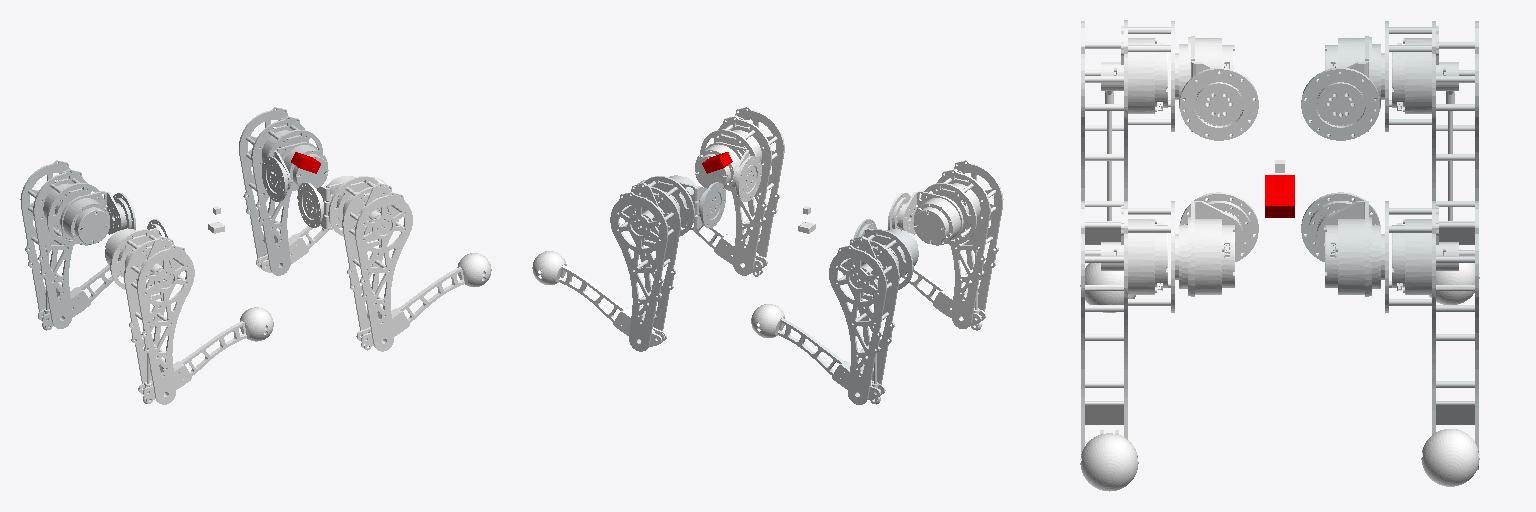
URDF robot description (newdog7):
<?xml version="1.0" encoding="utf-8"?>
<!-- Copyright (c) 2026 taojunfeng123
     SPDX-License-Identifier: Apache-2.0 -->

<!-- This URDF was automatically created by SolidWorks to URDF Exporter! Originally created by Stephen Brawner (brawner@gmail.com)
     Commit Version: 1.6.0-4-g7f85cfe  Build Version: 1.6.7995.38578
     For more information, please see http://wiki.ros.org/sw_urdf_exporter -->
<robot
  name="newdog7">
  <link
    name="base_link">
    <inertial>
      <origin
        xyz="3.33066907387547E-16 -1.52308721190764E-15 8.67361737988404E-19"
        rpy="0 0 0" />
      <mass
        value="0.0010000" />
      <inertia
        ixx="0.0000000"
        ixy="0.0000000"
        ixz="0.0000000"
        iyy="0.0000000"
        iyz="0.0000000"
        izz="0.0000000" />
    </inertial>
    <visual>
      <origin
        xyz="0 0 0"
        rpy="0 0 0" />
      <geometry>
        <mesh
          filename="package://newdog7/meshes/base_link.STL" />
      </geometry>
      <material
        name="">
        <color
          rgba="1 1 1 1" />
      </material>
    </visual>
    <collision>
      <origin
        xyz="0 0 0"
        rpy="0 0 0" />
      <geometry>
        <mesh
          filename="package://newdog7/meshes/base_link.STL" />
      </geometry>
    </collision>
  </link>
  <link
    name="trunk_link">
    <inertial>
      <origin
        xyz="-0.000914596355781658 -0.00588588083227612 -0.0101666909289931"
        rpy="0 0 0" />
      <mass
        value="4.6043039" />
      <inertia
        ixx="0.0304155"
        ixy="-0.0001536"
        ixz="-0.0000979"
        iyy="0.0576475"
        iyz="0.0001516"
        izz="0.0768428" />
    </inertial>
    <visual>
      <origin
        xyz="0 0 0"
        rpy="0 0 0" />
      <geometry>
        <mesh
          filename="package://newdog7/meshes/trunk_link.STL" />
      </geometry>
      <material
        name="">
        <color
          rgba="0 1 1 1" />
      </material>
    </visual>
    <collision>
      <origin
        xyz="0 0 0"
        rpy="0 0 0" />
      <geometry>
        <mesh
          filename="package://newdog7/meshes/trunk_link.STL" />
      </geometry>
    </collision>
  </link>
  <joint
    name="trunk_joint"
    type="fixed">
    <origin
      xyz="0 0 0"
      rpy="0 0 0" />
    <parent
      link="base_link" />
    <child
      link="trunk_link" />
    <axis
      xyz="0 0 0" />
  </joint>
  <link
    name="FL_hip_link">
    <inertial>
      <origin
        xyz="-0.027663 0.016036 -4.3486E-05"
        rpy="0 0 0" />
      <mass
        value="1.0790672" />
      <inertia
        ixx="0.0008140"
        ixy="-0.0001481"
        ixz="-0.0000001"
        iyy="0.0015634"
        iyz="-0.0000034"
        izz="0.0013876" />
    </inertial>
    <visual>
      <origin
        xyz="0 0 0"
        rpy="0 0 0" />
      <geometry>
        <mesh
          filename="package://newdog7/meshes/FL_hip_link.STL" />
      </geometry>
      <material
        name="">
        <color
          rgba="0.89804 0.91765 0.92941 1" />
      </material>
    </visual>
    <collision>
      <origin
        xyz="0 0 0"
        rpy="0 0 0" />
      <geometry>
        <mesh
          filename="package://newdog7/meshes/FL_hip_link.STL" />
      </geometry>
    </collision>
  </link>
  <joint
    name="FL_hip_joint"
    type="revolute">
    <origin
      xyz="0.219736600000002 0.0625499999999842 0"
      rpy="0 0 0" />
    <parent
      link="trunk_link" />
    <child
      link="FL_hip_link" />
    <axis
      xyz="-1 0 0" />
    <limit
      lower="-0.5522"
      upper="0.4007"
      effort="100"
      velocity="100" />
  </joint>
  <link
    name="FL_thigh_link">
    <inertial>
      <origin
        xyz="-0.003735 -0.017979 -0.04498"
        rpy="0 0 0" />
      <mass
        value="0.9731943" />
      <inertia
        ixx="0.0043557"
        ixy="0.0000417"
        ixz="-0.0001582"
        iyy="0.0019267"
        iyz="0.0005892"
        izz="0.0012665" />
    </inertial>
    <visual>
      <origin
        xyz="0 0 0"
        rpy="0 0 0" />
      <geometry>
        <mesh
          filename="package://newdog7/meshes/FL_thigh_link.STL" />
      </geometry>
      <material
        name="">
        <color
          rgba="0.89804 0.91765 0.92941 1" />
      </material>
    </visual>
    <collision>
      <origin
        xyz="0 0 0"
        rpy="0 0 0" />
      <geometry>
        <mesh
          filename="package://newdog7/meshes/FL_thigh_link.STL" />
      </geometry>
    </collision>
  </link>
  <joint
    name="FL_thigh_joint"
    type="revolute">
    <origin
      xyz="0 0.113000000000016 4.99999999798882E-05"
      rpy="0 0 0" />
    <parent
      link="FL_hip_link" />
    <child
      link="FL_thigh_link" />
    <axis
      xyz="0 -1 0" />
    <limit
      lower="-1.6601"
      upper="1.0000"
      effort="100"
      velocity="100" />
  </joint>
  <link
    name="FL_calf_link">
    <inertial>
      <origin
        xyz="0.025993 -5.5511E-17 0.056067"
        rpy="0 0 0" />
      <mass
        value="0.1721409" />
      <inertia
        ixx="0.0006392"
        ixy="0.0000000"
        ixz="-0.0002869"
        iyy="0.0007876"
        iyz="0.0000000"
        izz="0.0001583" />
    </inertial>
    <visual>
      <origin
        xyz="0 0 0"
        rpy="0 0 0" />
      <geometry>
        <mesh
          filename="package://newdog7/meshes/FL_calf_link.STL" />
      </geometry>
      <material
        name="">
        <color
          rgba="1 1 1 1" />
      </material>
    </visual>
    <collision>
      <origin
        xyz="0 0 0"
        rpy="0 0 0" />
      <geometry>
        <mesh
          filename="package://newdog7/meshes/FL_calf_link.STL" />
      </geometry>
    </collision>
  </link>
  <joint
    name="FL_calf_joint"
    type="revolute">
    <origin
      xyz="0 0 -0.220000000000001"
      rpy="0 0 0" />
    <parent
      link="FL_thigh_link" />
    <child
      link="FL_calf_link" />
    <axis
      xyz="0 -1 0" />
    <limit
      lower="-1.4042"
      upper="-0.0052"
      effort="100"
      velocity="100" />
  </joint>
  <link
    name="FL_foot_link">
    <inertial>
      <origin
        xyz="-0.00089398 -4.8815E-05 -0.0011987"
        rpy="0 0 0" />
      <mass
        value="0.0347400" />
      <inertia
        ixx="0.0000129"
        ixy="0.0000000"
        ixz="0.0000004"
        iyy="0.0000127"
        iyz="0.0000000"
        izz="0.0000131" />
    </inertial>
    <visual>
      <origin
        xyz="0 0 0"
        rpy="0 0 0" />
      <geometry>
        <mesh
          filename="package://newdog7/meshes/FL_foot_link.STL" />
      </geometry>
      <material
        name="">
        <color
          rgba="1 1 1 1" />
      </material>
    </visual>
    <collision>
      <origin
        xyz="0 0 0"
        rpy="0 0 0" />
      <geometry>
        <mesh
          filename="package://newdog7/meshes/FL_foot_link.STL" />
      </geometry>
    </collision>
  </link>
  <joint
    name="FL_foot_joint"
    type="fixed">
    <origin
      xyz="0.097188108287879 0 0.192544991245897"
      rpy="0 0 0" />
    <parent
      link="FL_calf_link" />
    <child
      link="FL_foot_link" />
    <axis
      xyz="0 0 0" />
  </joint>
  <link
    name="FR_hip_link">
    <inertial>
      <origin
        xyz="-0.027663 -0.016036 -4.3438E-05"
        rpy="0 0 0" />
      <mass
        value="1.0790672" />
      <inertia
        ixx="0.0008140"
        ixy="0.0001481"
        ixz="-0.0000001"
        iyy="0.0015634"
        iyz="0.0000034"
        izz="0.0013876" />
    </inertial>
    <visual>
      <origin
        xyz="0 0 0"
        rpy="0 0 0" />
      <geometry>
        <mesh
          filename="package://newdog7/meshes/FR_hip_link.STL" />
      </geometry>
      <material
        name="">
        <color
          rgba="1 1 1 1" />
      </material>
    </visual>
    <collision>
      <origin
        xyz="0 0 0"
        rpy="0 0 0" />
      <geometry>
        <mesh
          filename="package://newdog7/meshes/FR_hip_link.STL" />
      </geometry>
    </collision>
  </link>
  <joint
    name="FR_hip_joint"
    type="revolute">
    <origin
      xyz="0.219736600000002 -0.0625499999999764 0"
      rpy="0 0 0" />
    <parent
      link="trunk_link" />
    <child
      link="FR_hip_link" />
    <axis
      xyz="-1 0 0" />
    <limit
      lower="-0.4049"
      upper="0.7582"
      effort="100"
      velocity="100" />
  </joint>
  <link
    name="FR_thigh_link">
    <inertial>
      <origin
        xyz="-0.0037532 0.017969 -0.045081"
        rpy="0 0 0" />
      <mass
        value="0.9703371 " />
      <inertia
        ixx="0.0043506"
        ixy="-0.0000419"
        ixz="-0.0001589"
        iyy="0.0019028"
        iyz="-0.0005910"
        izz="0.0012644" />
    </inertial>
    <visual>
      <origin
        xyz="0 0 0"
        rpy="0 0 0" />
      <geometry>
        <mesh
          filename="package://newdog7/meshes/FR_thigh_link.STL" />
      </geometry>
      <material
        name="">
        <color
          rgba="1 1 1 1" />
      </material>
    </visual>
    <collision>
      <origin
        xyz="0 0 0"
        rpy="0 0 0" />
      <geometry>
        <mesh
          filename="package://newdog7/meshes/FR_thigh_link.STL" />
      </geometry>
    </collision>
  </link>
  <joint
    name="FR_thigh_joint"
    type="revolute">
    <origin
      xyz="0 -0.112999999999979 4.99999999777215E-05"
      rpy="0 0 0" />
    <parent
      link="FR_hip_link" />
    <child
      link="FR_thigh_link" />
    <axis
      xyz="0 1 0" />
    <limit
      lower="-0.8261"
      upper="1.7418"
      effort="100"
      velocity="100" />
  </joint>
  <link
    name="FR_calf_link">
    <inertial>
      <origin
        xyz="0.026127 1.6653E-16 0.056277"
        rpy="0 0 0" />
      <mass
        value="0.1716383" />
      <inertia
        ixx="0.0006366"
        ixy="0.0000000"
        ixz="-0.0002853"
        iyy="0.0007840"
        iyz="0.0000000"
        izz="0.0001572" />
    </inertial>
    <visual>
      <origin
        xyz="0 0 0"
        rpy="0 0 0" />
      <geometry>
        <mesh
          filename="package://newdog7/meshes/FR_calf_link.STL" />
      </geometry>
      <material
        name="">
        <color
          rgba="1 1 1 1" />
      </material>
    </visual>
    <collision>
      <origin
        xyz="0 0 0"
        rpy="0 0 0" />
      <geometry>
        <mesh
          filename="package://newdog7/meshes/FR_calf_link.STL" />
      </geometry>
    </collision>
  </link>
  <joint
    name="FR_calf_joint"
    type="revolute">
    <origin
      xyz="0 0 -0.219999999999998"
      rpy="0 0 0" />
    <parent
      link="FR_thigh_link" />
    <child
      link="FR_calf_link" />
    <axis
      xyz="0 1 0" />
    <limit
      lower="0.0175"
      upper="1.4368"
      effort="100"
      velocity="100" />
  </joint>
  <link
    name="FR_foot_link">
    <inertial>
      <origin
        xyz="-0.00089398 4.8818E-05 -0.0011987"
        rpy="0 0 0" />
      <mass
        value="0.0347400" />
      <inertia
        ixx="0.0000129"
        ixy="0.0000000"
        ixz="0.0000004"
        iyy="0.0000127"
        iyz="0.0000000"
        izz="0.0000131" />
    </inertial>
    <visual>
      <origin
        xyz="0 0 0"
        rpy="0 0 0" />
      <geometry>
        <mesh
          filename="package://newdog7/meshes/FR_foot_link.STL" />
      </geometry>
      <material
        name="">
        <color
          rgba="1 1 1 1" />
      </material>
    </visual>
    <collision>
      <origin
        xyz="0 0 0"
        rpy="0 0 0" />
      <geometry>
        <mesh
          filename="package://newdog7/meshes/FR_foot_link.STL" />
      </geometry>
    </collision>
  </link>
  <joint
    name="FR_foot_joint"
    type="fixed">
    <origin
      xyz="0.097188113678866 0 0.192544983915192"
      rpy="0 0 0" />
    <parent
      link="FR_calf_link" />
    <child
      link="FR_foot_link" />
    <axis
      xyz="0 0 0" />
  </joint>
  <link
    name="RL_hip_link">
    <inertial>
      <origin
        xyz="0.0275370203353642 0.016035850006297 -4.3485968027542E-05"
        rpy="0 0 0" />
      <mass
        value="1.0790672" />
      <inertia
        ixx="0.0008140"
        ixy="0.0001473"
        ixz="-0.0000159"
        iyy="0.0015847"
        iyz="-0.0000034"
        izz="0.0014089" />
    </inertial>
    <visual>
      <origin
        xyz="0 0 0"
        rpy="0 0 0" />
      <geometry>
        <mesh
          filename="package://newdog7/meshes/RL_hip_link.STL" />
      </geometry>
      <material
        name="">
        <color
          rgba="0.898039215686275 0.917647058823529 0.929411764705882 1" />
      </material>
    </visual>
    <collision>
      <origin
        xyz="0 0 0"
        rpy="0 0 0" />
      <geometry>
        <mesh
          filename="package://newdog7/meshes/RL_hip_link.STL" />
      </geometry>
    </collision>
  </link>
  <joint
    name="RL_hip_joint"
    type="revolute">
    <origin
      xyz="-0.219736600000007 0.0625499999999842 0"
      rpy="0 0 0" />
    <parent
      link="trunk_link" />
    <child
      link="RL_hip_link" />
    <axis
      xyz="1 0 0" />
    <limit
      lower="-0.4061"
      upper="0.8384"
      effort="100"
      velocity="100" />
  </joint>
  <link
    name="RL_thigh_link">
    <inertial>
      <origin
        xyz="-0.00375129650168743 -0.0179606285310873 -0.0451765685552273"
        rpy="0 0 0" />
      <mass
        value="0.9736970" />
      <inertia
        ixx="0.0043788"
        ixy="0.0000419"
        ixz="-0.0001600"
        iyy="0.0040626"
        iyz="0.0005917"
        izz="0.0012669" />
    </inertial>
    <visual>
      <origin
        xyz="0 0 0"
        rpy="0 0 0" />
      <geometry>
        <mesh
          filename="package://newdog7/meshes/RL_thigh_link.STL" />
      </geometry>
      <material
        name="">
        <color
          rgba="0.898039215686275 0.917647058823529 0.929411764705882 1" />
      </material>
    </visual>
    <collision>
      <origin
        xyz="0 0 0"
        rpy="0 0 0" />
      <geometry>
        <mesh
          filename="package://newdog7/meshes/RL_thigh_link.STL" />
      </geometry>
    </collision>
  </link>
  <joint
    name="RL_thigh_joint"
    type="revolute">
    <origin
      xyz="0 0.113000000000016 5.00000000046436E-05"
      rpy="0 0 0" />
    <parent
      link="RL_hip_link" />
    <child
      link="RL_thigh_link" />
    <axis
      xyz="0 -1 0" />
    <limit
      lower="-1.6938"
      upper="0.0715"
      effort="100"
      velocity="100" />
  </joint>
  <link
    name="RL_calf_link">
    <inertial>
      <origin
        xyz="0.026127 -5.5511E-17 0.056277"
        rpy="0 0 0" />
      <mass
        value="0.1716383" />
      <inertia
        ixx="0.0006366"
        ixy="0.0000000"
        ixz="-0.0002853"
        iyy="0.0007840"
        iyz="0.0000000"
        izz="0.0001572" />
    </inertial>
    <visual>
      <origin
        xyz="0 0 0"
        rpy="0 0 0" />
      <geometry>
        <mesh
          filename="package://newdog7/meshes/RL_calf_link.STL" />
      </geometry>
      <material
        name="">
        <color
          rgba="0.89804 0.91765 0.92941 1" />
      </material>
    </visual>
    <collision>
      <origin
        xyz="0 0 0"
        rpy="0 0 0" />
      <geometry>
        <mesh
          filename="package://newdog7/meshes/RL_calf_link.STL" />
      </geometry>
    </collision>
  </link>
  <joint
    name="RL_calf_joint"
    type="revolute">
    <origin
      xyz="0 0 -0.220000000000003"
      rpy="0 0 0" />
    <parent
      link="RL_thigh_link" />
    <child
      link="RL_calf_link" />
    <axis
      xyz="0 -1 0" />
    <limit
      lower="-1.3881"
      upper="-0.0136"
      effort="100"
      velocity="100" />
  </joint>
  <link
    name="RL_foot_link">
    <inertial>
      <origin
        xyz="-0.00089398 -4.8815E-05 -0.0011987"
        rpy="0 0 0" />
      <mass
        value="0.0347400" />
      <inertia
        ixx="0.0000129"
        ixy="0.0000000"
        ixz="0.0000004"
        iyy="0.0000127"
        iyz="0.0000000"
        izz="0.0000131" />
    </inertial>
    <visual>
      <origin
        xyz="0 0 0"
        rpy="0 0 0" />
      <geometry>
        <mesh
          filename="package://newdog7/meshes/RL_foot_link.STL" />
      </geometry>
      <material
        name="">
        <color
          rgba="1 1 1 1" />
      </material>
    </visual>
    <collision>
      <origin
        xyz="0 0 0"
        rpy="0 0 0" />
      <geometry>
        <mesh
          filename="package://newdog7/meshes/RL_foot_link.STL" />
      </geometry>
    </collision>
  </link>
  <joint
    name="RL_foot_joint"
    type="fixed">
    <origin
      xyz="0.0971881082879007 0 0.192544991245896"
      rpy="0 0 0" />
    <parent
      link="RL_calf_link" />
    <child
      link="RL_foot_link" />
    <axis
      xyz="0 0 0" />
  </joint>
  <link
    name="RR_hip_link">
    <inertial>
      <origin
        xyz="0.02753707651014 -0.0160358508110011 -4.34381982042801E-05"
        rpy="0 0 0" />
      <mass
        value="1.0790672" />
      <inertia
        ixx="0.0008140"
        ixy="-0.0001473"
        ixz="-0.0000159"
        iyy="0.0015847"
        iyz="0.0000034"
        izz="0.0014089" />
    </inertial>
    <visual>
      <origin
        xyz="0 0 0"
        rpy="0 0 0" />
      <geometry>
        <mesh
          filename="package://newdog7/meshes/RR_hip_link.STL" />
      </geometry>
      <material
        name="">
        <color
          rgba="1 1 1 1" />
      </material>
    </visual>
    <collision>
      <origin
        xyz="0 0 0"
        rpy="0 0 0" />
      <geometry>
        <mesh
          filename="package://newdog7/meshes/RR_hip_link.STL" />
      </geometry>
    </collision>
  </link>
  <joint
    name="RR_hip_joint"
    type="revolute">
    <origin
      xyz="-0.219736600000007 -0.0625499999999764 0"
      rpy="0 0 0" />
    <parent
      link="trunk_link" />
    <child
      link="RR_hip_link" />
    <axis
      xyz="1 0 0" />
    <limit
      lower="-0.6692"
      upper="0.4436"
      effort="100"
      velocity="100" />
  </joint>
  <link
    name="RR_thigh_link">
    <inertial>
      <origin
        xyz="-0.0037532 0.017969 -0.045081"
        rpy="0 0 0" />
      <mass
        value="0.9703371" />
      <inertia
        ixx="0.0043506"
        ixy="-0.0000419"
        ixz="-0.0001589"
        iyy="0.0040321"
        iyz="-0.0005910"
        izz="0.0012644" />
    </inertial>
    <visual>
      <origin
        xyz="0 0 0"
        rpy="0 0 0" />
      <geometry>
        <mesh
          filename="package://newdog7/meshes/RR_thigh_link.STL" />
      </geometry>
      <material
        name="">
        <color
          rgba="1 1 1 1" />
      </material>
    </visual>
    <collision>
      <origin
        xyz="0 0 0"
        rpy="0 0 0" />
      <geometry>
        <mesh
          filename="package://newdog7/meshes/RR_thigh_link.STL" />
      </geometry>
    </collision>
  </link>
  <joint
    name="RR_thigh_joint"
    type="revolute">
    <origin
      xyz="0 -0.112999999999978 5.00000000001229E-05"
      rpy="0 0 0" />
    <parent
      link="RR_hip_link" />
    <child
      link="RR_thigh_link" />
    <axis
      xyz="0 1 0" />
    <limit
      lower="-0.0681"
      upper="1.7851"
      effort="100"
      velocity="100" />
  </joint>
  <link
    name="RR_calf_link">
    <inertial>
      <origin
        xyz="0.026127 -6.7002E-14 0.056277"
        rpy="0 0 0" />
      <mass
        value="0.1716383" />
      <inertia
        ixx="0.0006366"
        ixy=" 0.0000000"
        ixz="-0.0002853"
        iyy="0.0007840"
        iyz="0.0000000"
        izz="0.0001572" />
    </inertial>
    <visual>
      <origin
        xyz="0 0 0"
        rpy="0 0 0" />
      <geometry>
        <mesh
          filename="package://newdog7/meshes/RR_calf_link.STL" />
      </geometry>
      <material
        name="">
        <color
          rgba="1 1 1 1" />
      </material>
    </visual>
    <collision>
      <origin
        xyz="0 0 0"
        rpy="0 0 0" />
      <geometry>
        <mesh
          filename="package://newdog7/meshes/RR_calf_link.STL" />
      </geometry>
    </collision>
  </link>
  <joint
    name="RR_calf_joint"
    type="revolute">
    <origin
      xyz="0 0 -0.219999999999998"
      rpy="0 0 0" />
    <parent
      link="RR_thigh_link" />
    <child
      link="RR_calf_link" />
    <axis
      xyz="0 1 0" />
    <limit
      lower="0.0117"
      upper="1.4629"
      effort="100"
      velocity="100" />
  </joint>
  <link
    name="RR_foot_link">
    <inertial>
      <origin
        xyz="-0.00089398 4.8818E-05 -0.0011987"
        rpy="0 0 0" />
      <mass
        value="0.0347400" />
      <inertia
        ixx="0.0000129"
        ixy="0.0000000"
        ixz="0.0000004"
        iyy="0.0000127"
        iyz="0.0000000"
        izz="0.0000131" />
    </inertial>
    <visual>
      <origin
        xyz="0 0 0"
        rpy="0 0 0" />
      <geometry>
        <mesh
          filename="package://newdog7/meshes/RR_foot_link.STL" />
      </geometry>
      <material
        name="">
        <color
          rgba="1 1 1 1" />
      </material>
    </visual>
    <collision>
      <origin
        xyz="0 0 0"
        rpy="0 0 0" />
      <geometry>
        <mesh
          filename="package://newdog7/meshes/RR_foot_link.STL" />
      </geometry>
    </collision>
  </link>
  <joint
    name="RR_foot_joint"
    type="fixed">
    <origin
      xyz="0.0971881136788905 0 0.192544983915191"
      rpy="0 0 0" />
    <parent
      link="RR_calf_link" />
    <child
      link="RR_foot_link" />
    <axis
      xyz="0 0 0" />
  </joint>
  <link
    name="imu_link">
    <inertial>
      <origin
        xyz="-0.00012677 1.9776E-16 -0.033"
        rpy="0 0 0" />
      <mass
        value="0.0080000" />
      <inertia
        ixx="0.0000004"
        ixy="0.0000000"
        ixz="0.0000000"
        iyy="0.0000004"
        iyz="0.0000000"
        izz="0.0000006" />
    </inertial>
    <visual>
      <origin
        xyz="0 0 0"
        rpy="0 0 0" />
      <geometry>
        <mesh
          filename="package://newdog7/meshes/imu_link.STL" />
      </geometry>
      <material
        name="">
        <color
          rgba="1 1 1 1" />
      </material>
    </visual>
    <collision>
      <origin
        xyz="0 0 0"
        rpy="0 0 0" />
      <geometry>
        <mesh
          filename="package://newdog7/meshes/imu_link.STL" />
      </geometry>
    </collision>
  </link>
  <joint
    name="imu_joint"
    type="fixed">
    <origin
      xyz="0 0 0"
      rpy="0 0 0" />
    <parent
      link="trunk_link" />
    <child
      link="imu_link" />
    <axis
      xyz="0 0 0" />
  </joint>
  <!-- 前倾雷达：安装在身体前方上部，向前下方约30°倾斜，用于探测梅花桩等前方地形 -->
  <link
    name="radar_link">
    <inertial>
      <origin xyz="0 0 0" rpy="0 0 0" />
      <mass value="0.05" />
      <inertia ixx="0.0001" ixy="0" ixz="0" iyy="0.0001" iyz="0" izz="0.0001" />
    </inertial>
    <visual>
      <origin xyz="0 0 0" rpy="0 0 0" />
      <geometry>
        <box size="0.04 0.03 0.02" />
      </geometry>
      <material name="radar_material">
        <color rgba="1 0 0 1" />
      </material>
    </visual>
    <collision>
      <origin xyz="0 0 0" rpy="0 0 0" />
      <geometry>
        <box size="0.04 0.03 0.02" />
      </geometry>
    </collision>
  </link>
  <joint
    name="radar_joint"
    type="fixed">
    <origin
      xyz="0.18 0 0.05"
      rpy="0 0.5 0" />
    <parent link="trunk_link" />
    <child link="radar_link" />
    <axis xyz="0 0 0" />
  </joint>
</robot>

--- Render facts (derived) ---
Views: 3 orthographic renders of the robot side by side, from view 1: azimuth 30°, elevation 25°; view 2: azimuth 150°, elevation 25°; view 3: azimuth 270°, elevation 25°.
Model newdog7 with 20 links and 19 joints (12 revolute, 7 fixed), rooted at base_link, posed all joints at 0 but 4 set to mid-range because 0 is outside their limits (FL_calf_joint = -0.7047, FR_calf_joint = 0.7271, RL_calf_joint = -0.7008, RR_calf_joint = 0.7373).
Links seen in each view (by area): view 1: RR_thigh_link, FR_thigh_link, RL_thigh_link, FL_thigh_link, RL_hip_link, FL_hip_link, FR_hip_link, FR_calf_link, RR_calf_link, RL_calf_link, RR_foot_link, FR_foot_link (+2 smaller); view 2: RL_thigh_link, FL_thigh_link, RR_thigh_link, FR_thigh_link, RR_hip_link, FR_hip_link, FL_hip_link, FL_calf_link, RL_calf_link, RR_calf_link, FL_foot_link, RL_foot_link (+2 smaller); view 3: FR_thigh_link, FL_thigh_link, RR_thigh_link, RL_thigh_link, RL_hip_link, RR_hip_link, FL_hip_link, FR_hip_link, FR_foot_link, FL_foot_link, radar_link, RR_foot_link (+1 smaller).
Boxes of the visible links, box(x1,y1,x2,y2) form: RR_thigh_link: box(110, 229, 194, 404); FR_thigh_link: box(328, 176, 412, 351); RL_thigh_link: box(20, 160, 103, 330); FL_thigh_link: box(239, 107, 322, 275); RL_hip_link: box(60, 191, 135, 245); FL_hip_link: box(262, 142, 328, 201); FR_hip_link: box(297, 176, 362, 229); FR_calf_link: box(356, 267, 464, 345); RR_calf_link: box(138, 321, 246, 399); RL_calf_link: box(38, 265, 118, 325); RR_foot_link: box(240, 307, 273, 341); FR_foot_link: box(457, 253, 491, 286); RL_thigh_link: box(829, 229, 913, 404); FL_thigh_link: box(610, 176, 694, 351); RR_thigh_link: box(920, 160, 1003, 330); FR_thigh_link: box(700, 107, 784, 276); RR_hip_link: box(888, 191, 963, 245); FR_hip_link: box(695, 142, 761, 201); FL_hip_link: box(660, 175, 725, 229); FL_calf_link: box(559, 265, 666, 346); RL_calf_link: box(778, 318, 885, 399); RR_calf_link: box(902, 267, 985, 325); FL_foot_link: box(532, 251, 566, 284); RL_foot_link: box(751, 304, 784, 337); FR_thigh_link: box(1081, 201, 1178, 453); FL_thigh_link: box(1381, 201, 1478, 469); RR_thigh_link: box(1081, 20, 1178, 267); RL_thigh_link: box(1381, 21, 1478, 244); RL_hip_link: box(1301, 36, 1380, 140); RR_hip_link: box(1179, 36, 1258, 140); FL_hip_link: box(1301, 192, 1380, 296); FR_hip_link: box(1179, 192, 1258, 296); FR_foot_link: box(1080, 433, 1138, 491); FL_foot_link: box(1421, 429, 1479, 486); radar_link: box(1265, 175, 1294, 217); RR_foot_link: box(1080, 263, 1135, 312).
Bounding box of the posed robot: 0.7247 × 0.411 × 0.3138 m (x, y, z).
18 mesh visuals loaded from 19 distinct referenced files (18 binary STL); not drawn: 1 (reference not matched to a file when rendering).
